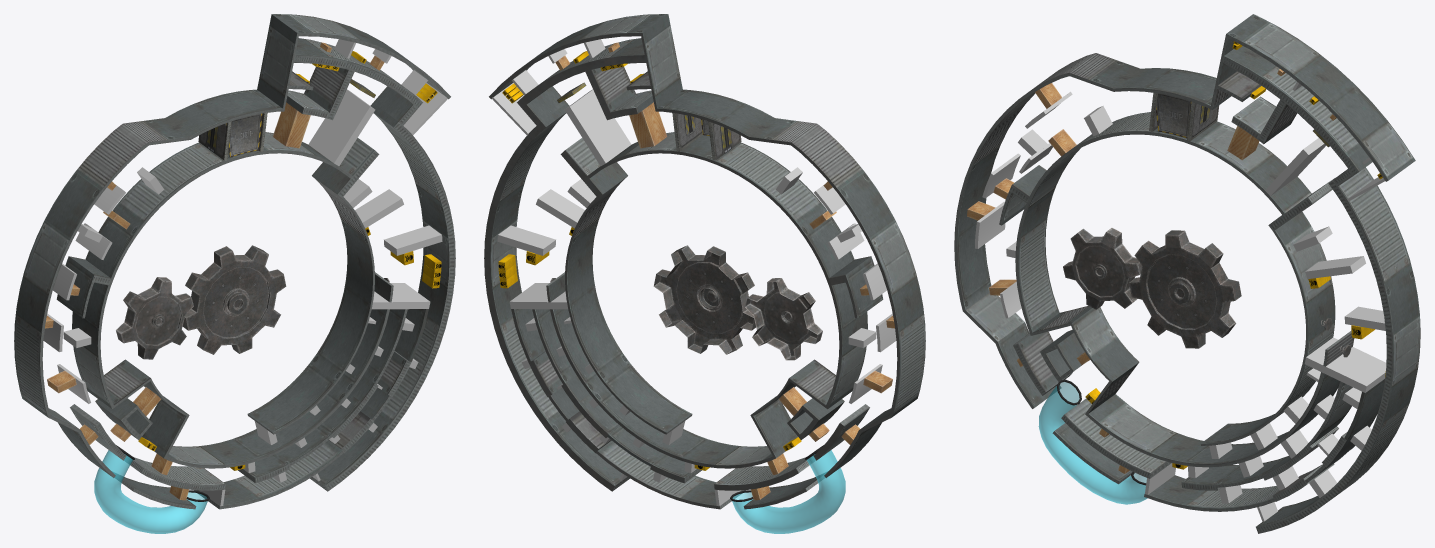
File: ESCENARIO FINAL.FBX
The picture shows the model from 3 angles, left to right: view 1: azimuth 30°, elevation 25°; view 2: azimuth 150°, elevation 25°; view 3: azimuth 330°, elevation 25°; orthographic projection. The views are drawn at different scales.
Visible parts, largest first — view 1: ESCENARIO PRINCIPAL, PLATAFORMA, ENGRANAJE 01, ENGRANAJE 02, Line002, BARRA PRINCIPAL, Line009, Object011, Line018; view 2: ESCENARIO PRINCIPAL, PLATAFORMA, ENGRANAJE 01, ENGRANAJE 02, Line002, Line009, Object010, Object011, Line018; view 3: ESCENARIO PRINCIPAL, PLATAFORMA, ENGRANAJE 01, ENGRANAJE 02, Line002, BARRA PRINCIPAL, Object010, Line009.
Part boxes in pixels (left/top/right/bottom): ESCENARIO PRINCIPAL: left=14, top=14, right=455, bottom=509; PLATAFORMA: left=43, top=39, right=447, bottom=506; ENGRANAJE 01: left=182, top=245, right=286, bottom=354; ENGRANAJE 02: left=116, top=277, right=193, bottom=359; Line002: left=94, top=450, right=207, bottom=533; BARRA PRINCIPAL: left=225, top=113, right=262, bottom=157; Line009: left=272, top=102, right=310, bottom=148; Object011: left=198, top=121, right=231, bottom=160; Line018: left=422, top=254, right=441, bottom=288; ESCENARIO PRINCIPAL: left=484, top=14, right=925, bottom=509; PLATAFORMA: left=491, top=39, right=896, bottom=506; ENGRANAJE 01: left=653, top=245, right=755, bottom=354; ENGRANAJE 02: left=745, top=278, right=822, bottom=360; Line002: left=732, top=450, right=845, bottom=533; Line009: left=629, top=102, right=667, bottom=148; Object010: left=672, top=113, right=702, bottom=151; Object011: left=708, top=121, right=741, bottom=160; Line018: left=498, top=254, right=517, bottom=288; ESCENARIO PRINCIPAL: left=954, top=14, right=1420, bottom=533; PLATAFORMA: left=975, top=82, right=1386, bottom=521; ENGRANAJE 01: left=1129, top=230, right=1241, bottom=348; ENGRANAJE 02: left=1063, top=228, right=1142, bottom=309; Line002: left=1038, top=382, right=1147, bottom=504; BARRA PRINCIPAL: left=1156, top=93, right=1191, bottom=138; Object010: left=1187, top=101, right=1219, bottom=141; Line009: left=1227, top=126, right=1259, bottom=160.
Bounding box in the file's own units: 187 × 206 × 20.06.
